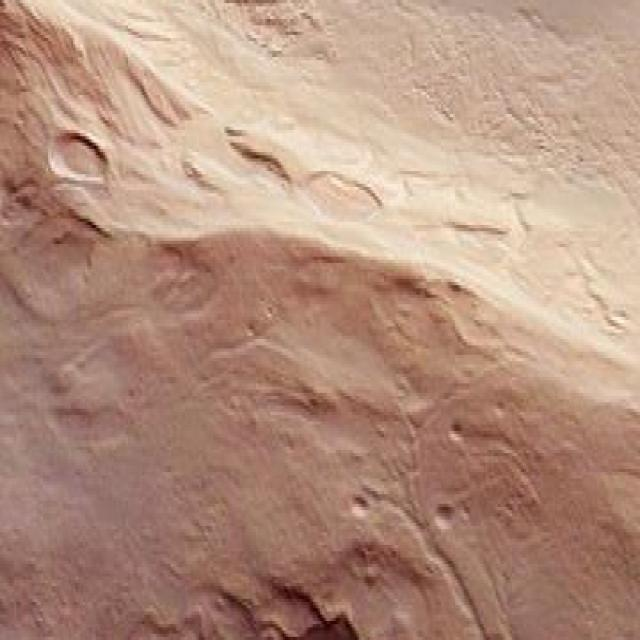Crater: (48, 133, 119, 187)
